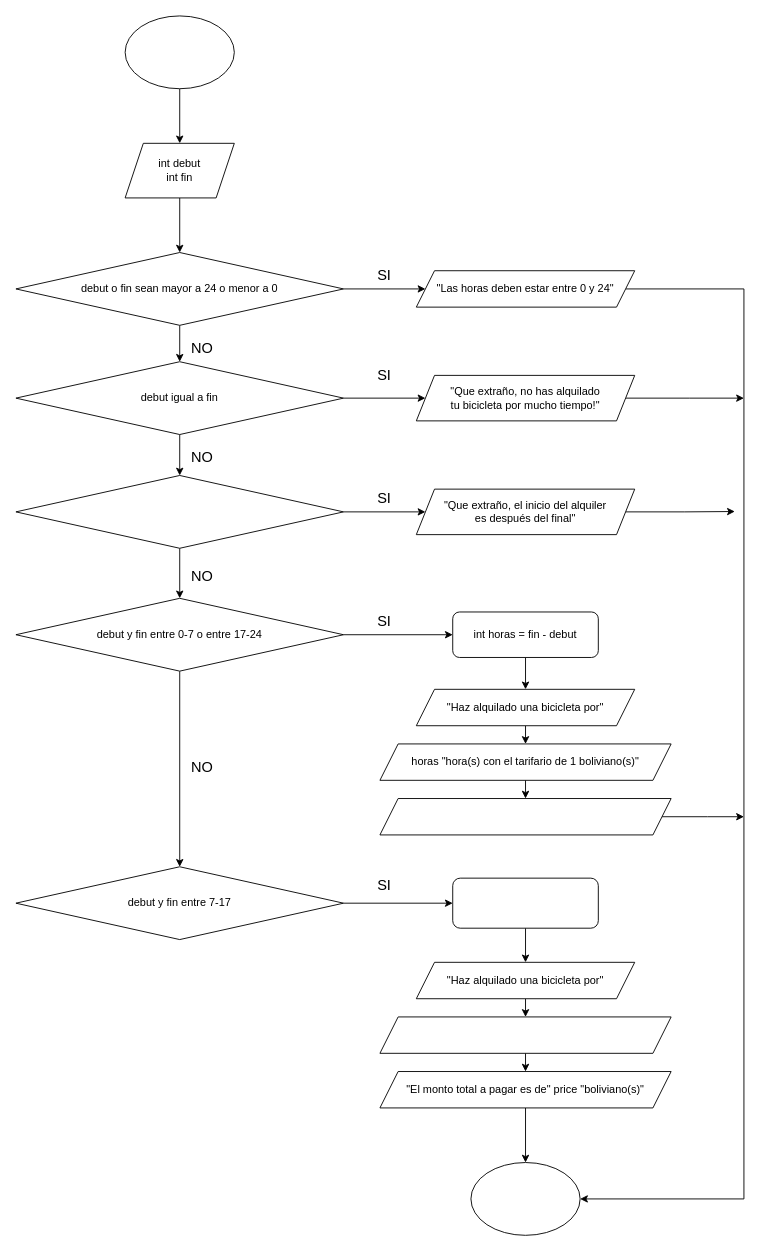
Image size: 767x1251. Some labels were removed from this diagram. Here are the shapes that lost their labels. From the top down, the centre of each, then its label:
point (179, 52): INICIO
point (179, 511): debut mayor a fin
point (525, 816): "El monto total a pagar es de" horas "boliviano(s)"
point (525, 902): int horas = fin - debut int price = horas * 2
point (525, 1034): horas "hora(s) con el tarifario de 2 boliviano(s)"
point (525, 1198): FIN
